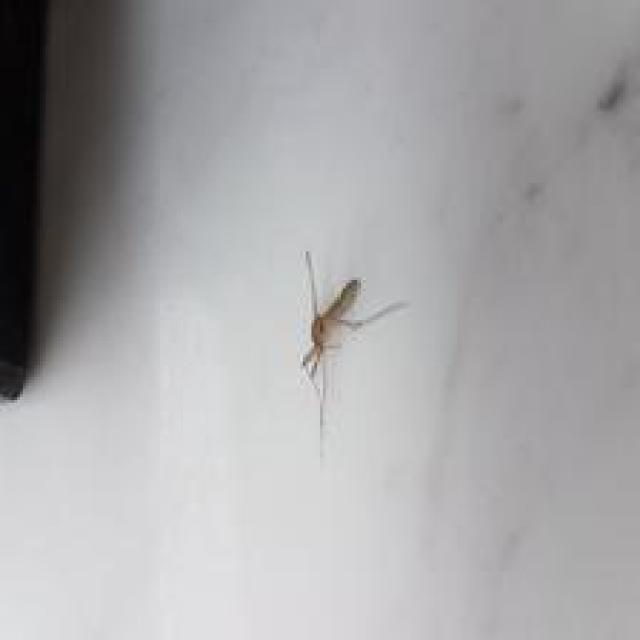Culex: (297, 249, 409, 457)
